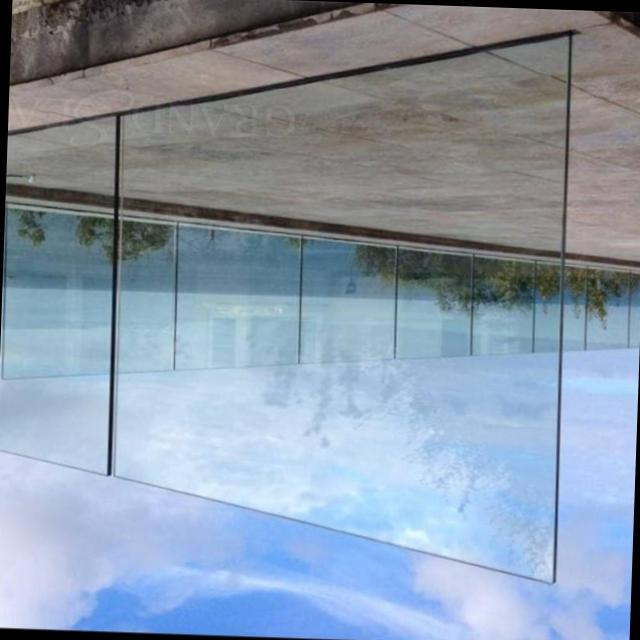glass: (0, 11, 599, 614)
